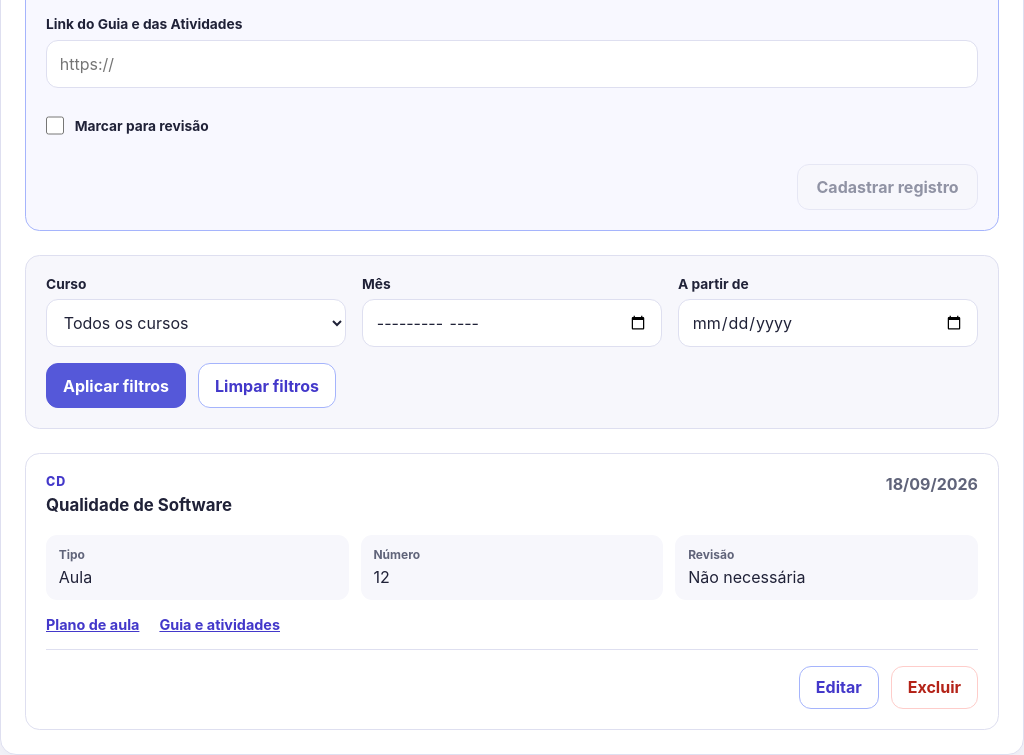
integração da edição com a consulta › abre e cancela a edição sem acessar a API
This screenshot has width=1024, height=755.
(page scrolled)
expect the heading "Qualidade de Software" is shown: met, box [46,495,232,515]
Click the button with aria-label "Editar Aula de CD em 18/09/2026" at (839, 687), box [799,666,879,709]
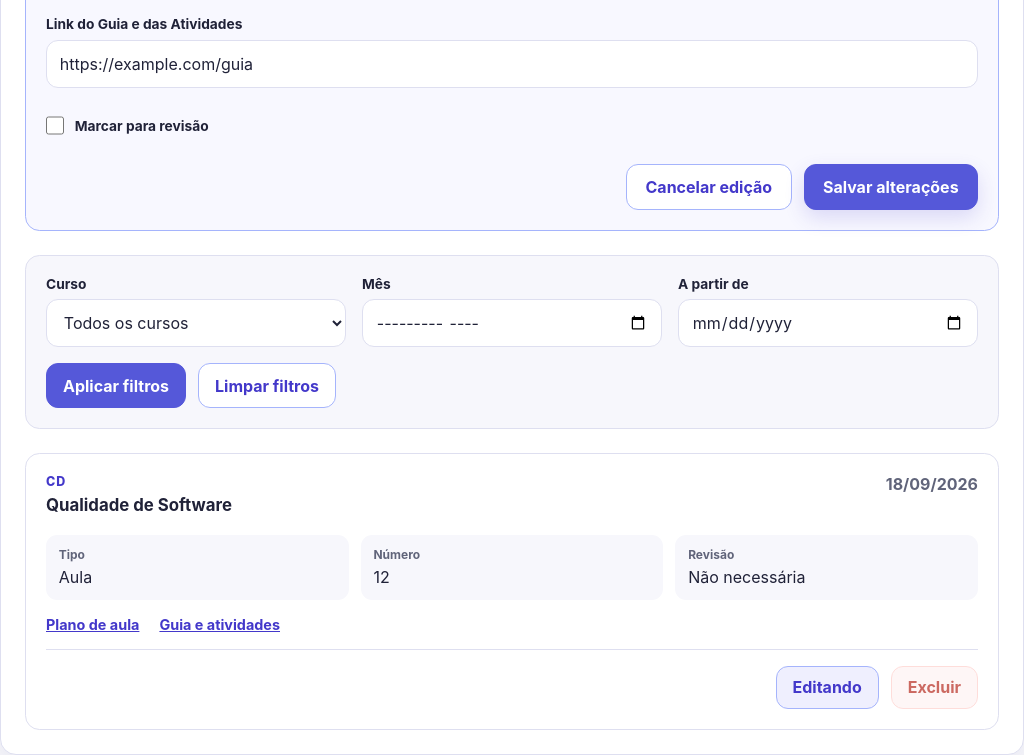
expect the button "Editando" is disabled: met, box [776,666,879,709]
Click the button "Cancelar edição" at (709, 187), box [626,164,792,210]
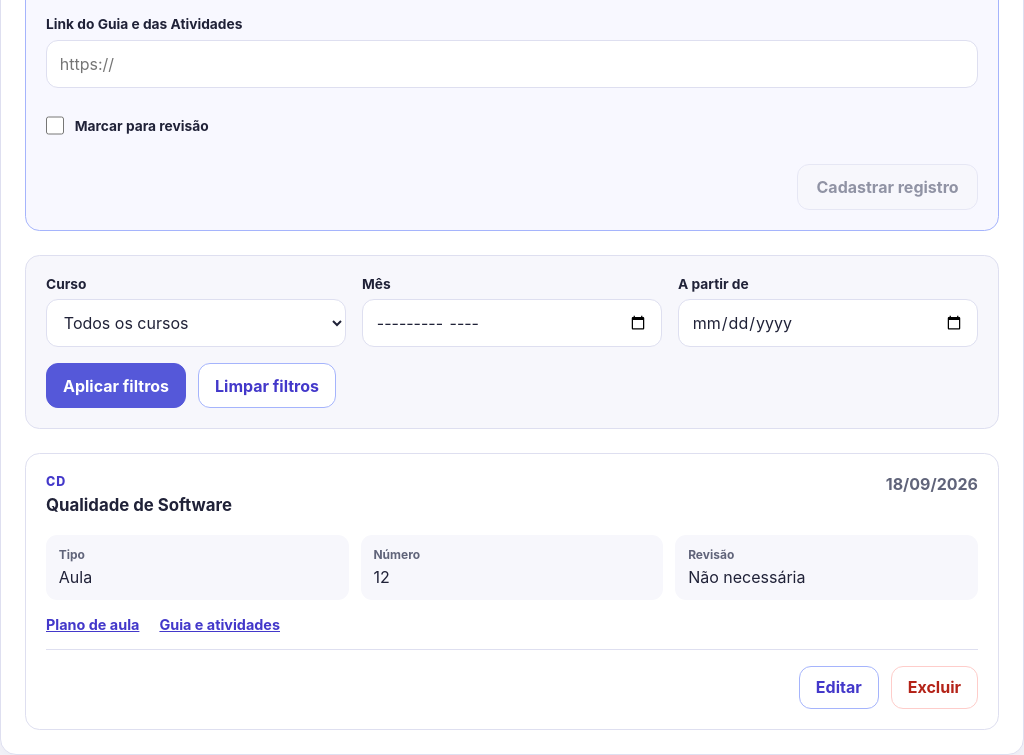
expect the button "Editando" is enabled: met, box [799,666,879,709]
